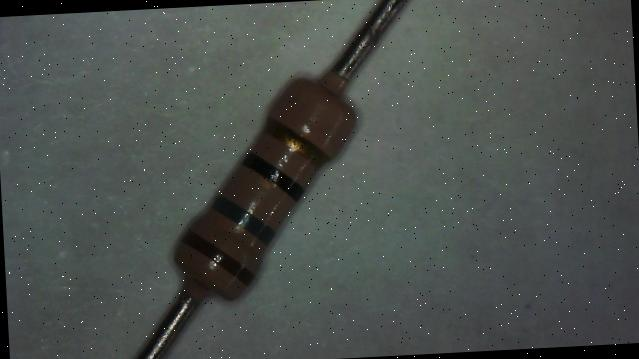black: (240, 150, 304, 204)
brown: (181, 226, 254, 288)
gold: (261, 114, 330, 172)
grey: (212, 194, 274, 246)
resistor: (127, 36, 397, 334)
